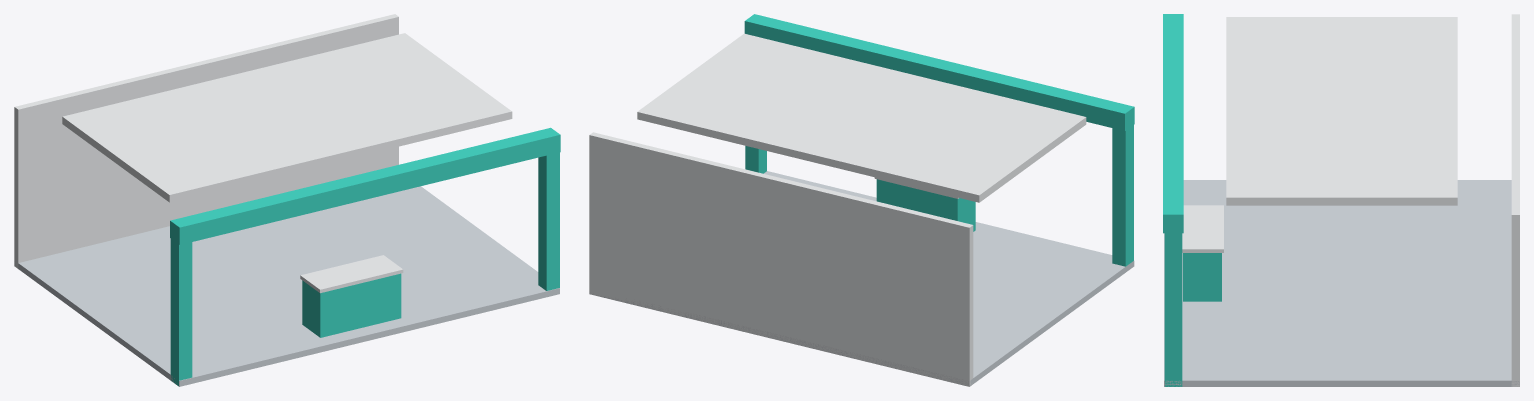
3 views of the same model, side by side, from view 1: azimuth 30°, elevation 25°; view 2: azimuth 150°, elevation 25°; view 3: azimuth 270°, elevation 25° (orthographic). The views are drawn at different scales.
Parts seen in each view (by area): view 1: Exhibition Booth Concept; view 2: Exhibition Booth Concept; view 3: Exhibition Booth Concept.
Boxes of the visible parts, box(x1,y1,x2,y2) form: Exhibition Booth Concept: box(14, 14, 560, 386); Exhibition Booth Concept: box(589, 14, 1134, 386); Exhibition Booth Concept: box(1163, 14, 1519, 386).
Size of the model in its own units: 8 by 3.34 by 6.02.
